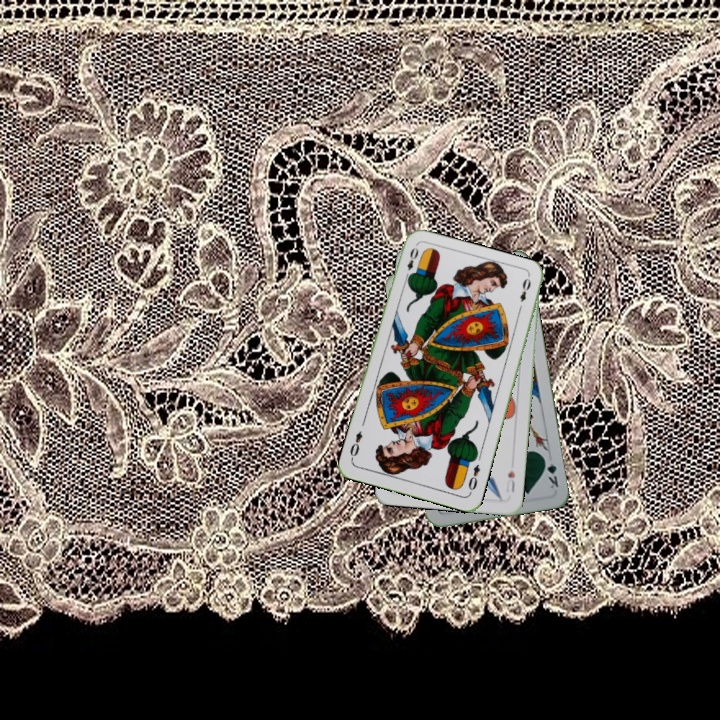EO: (401, 243, 421, 282), (464, 461, 483, 496)
GK: (540, 453, 561, 492)
HU: (502, 466, 517, 495)
